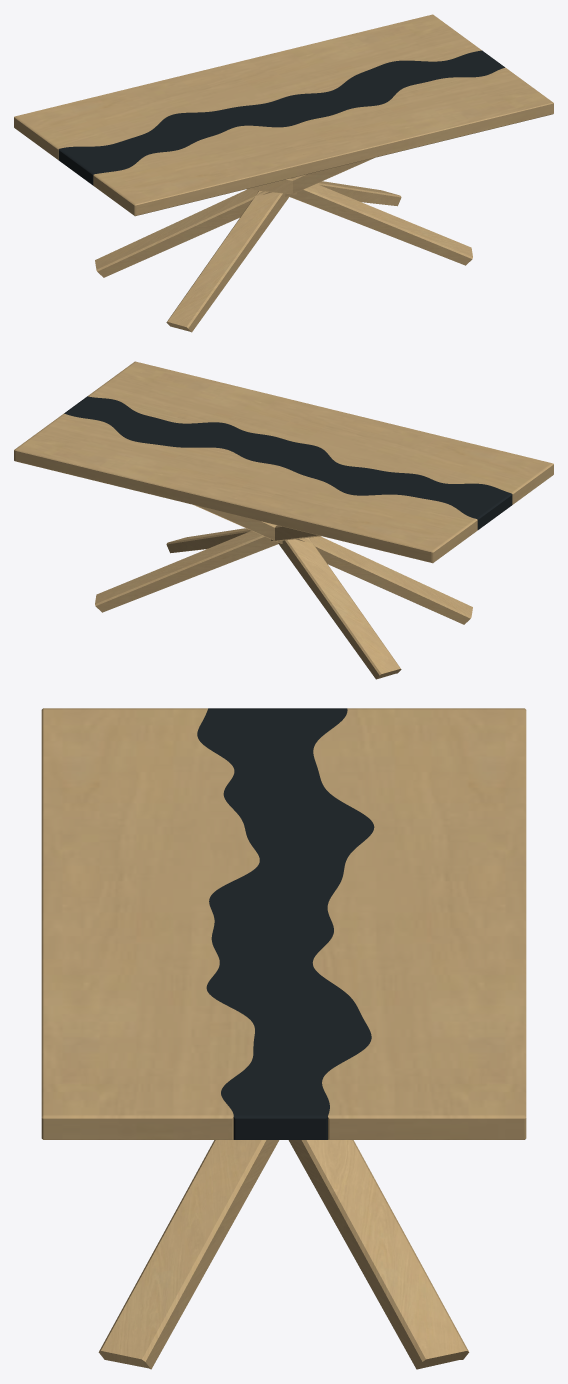
File: rectangular-beech-epoxy-black.glb
3 renders of one model, top to bottom at view 1: azimuth 30°, elevation 25°; view 2: azimuth 150°, elevation 25°; view 3: azimuth 270°, elevation 25°, orthographic. The views are drawn at different scales.
Parts seen in each view (by area): view 1: Wood_Rectangular_EpoxyFar, Wood_Rectangular_EpoxyNear, Base_target, Resin_Rectangular; view 2: Wood_Rectangular_EpoxyNear, Wood_Rectangular_EpoxyFar, Base_target, Resin_Rectangular; view 3: Wood_Rectangular_EpoxyNear, Wood_Rectangular_EpoxyFar, Resin_Rectangular, Base_target.
Boxes of the visible parts, left/top/right/bottom form: Wood_Rectangular_EpoxyFar: left=93, top=67, right=553, bottom=216; Wood_Rectangular_EpoxyNear: left=14, top=14, right=481, bottom=159; Base_target: left=95, top=158, right=472, bottom=332; Resin_Rectangular: left=58, top=50, right=504, bottom=185; Wood_Rectangular_EpoxyNear: left=14, top=413, right=477, bottom=563; Wood_Rectangular_EpoxyFar: left=88, top=361, right=553, bottom=504; Base_target: left=95, top=505, right=472, bottom=679; Resin_Rectangular: left=64, top=396, right=512, bottom=529; Wood_Rectangular_EpoxyNear: left=312, top=708, right=526, bottom=1139; Wood_Rectangular_EpoxyFar: left=41, top=708, right=259, bottom=1139; Resin_Rectangular: left=197, top=708, right=374, bottom=1139; Base_target: left=98, top=1140, right=469, bottom=1369.
Bounding box in the file's own units: 2.13 × 0.762 × 1.07.
2 materials, 1 textured.
